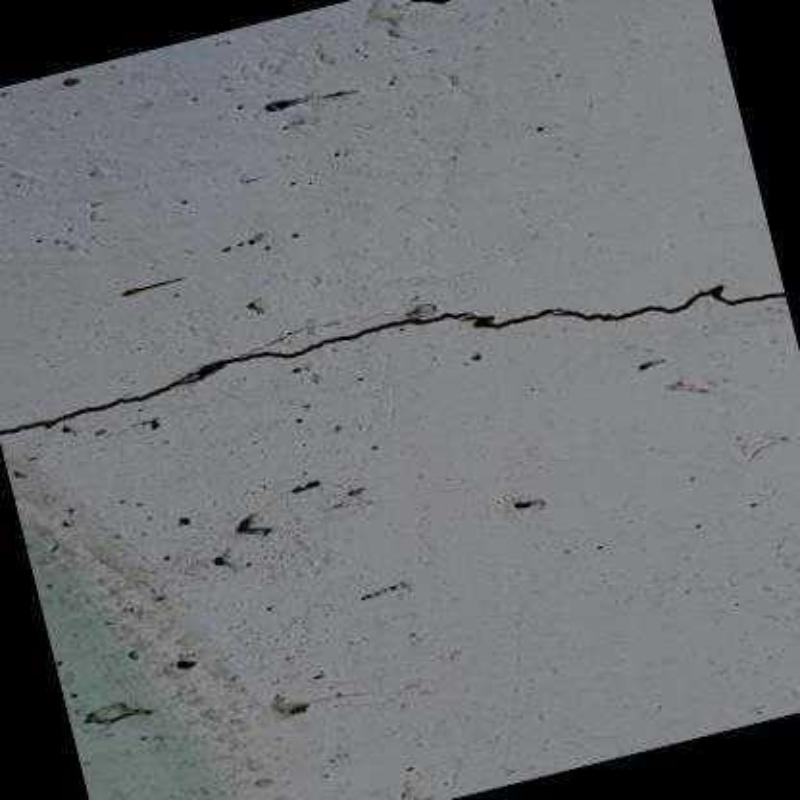crack: (0, 284, 787, 436), (244, 315, 360, 354)
